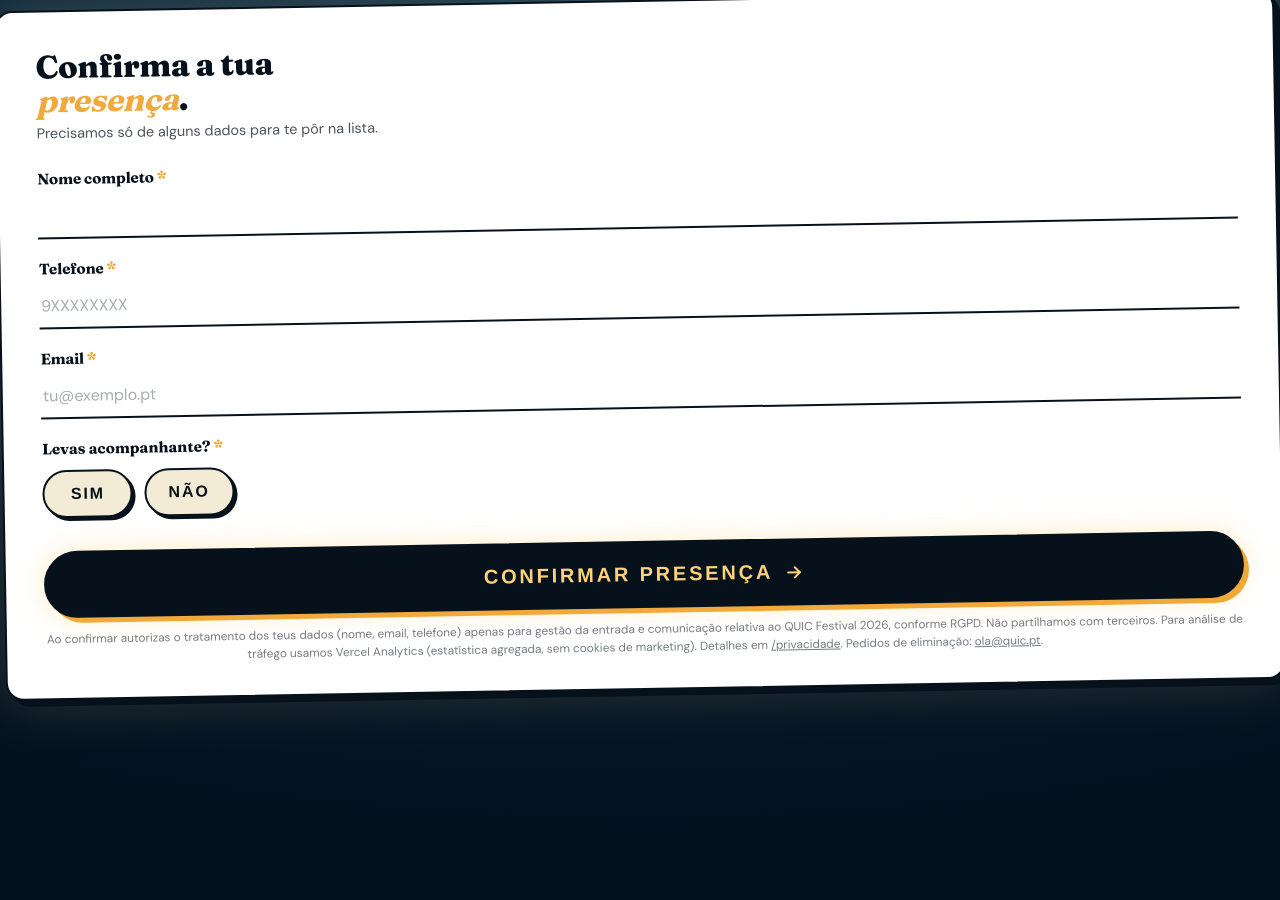
Test: RsvpForm › API error com message → banner alert
Type "Maria Silva" into the field labelled "Nome completo *" at (638, 207), box 38,174 -> 1238,239
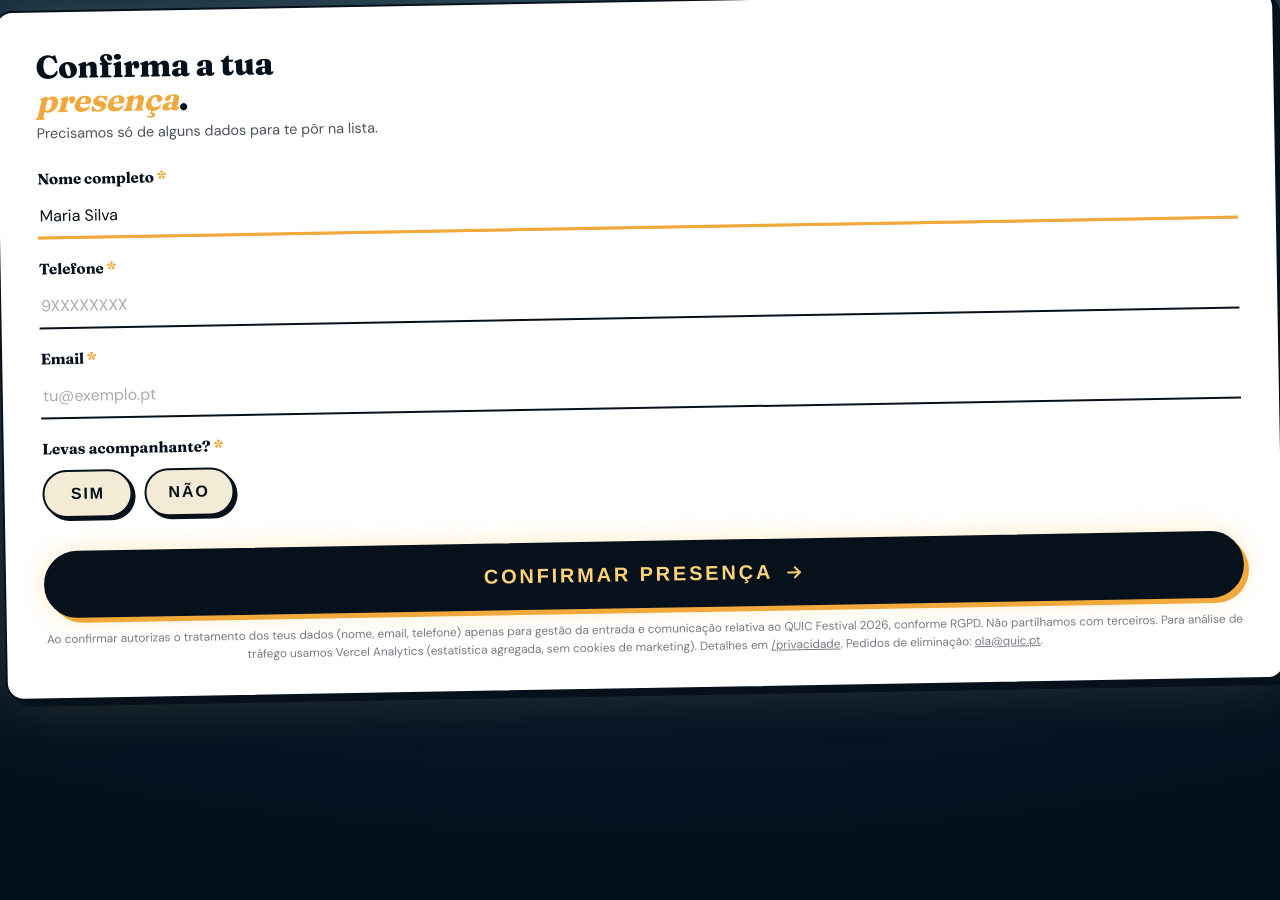
Type "912345678" into the field with id "tel" at (639, 297), box 39,264 -> 1239,329
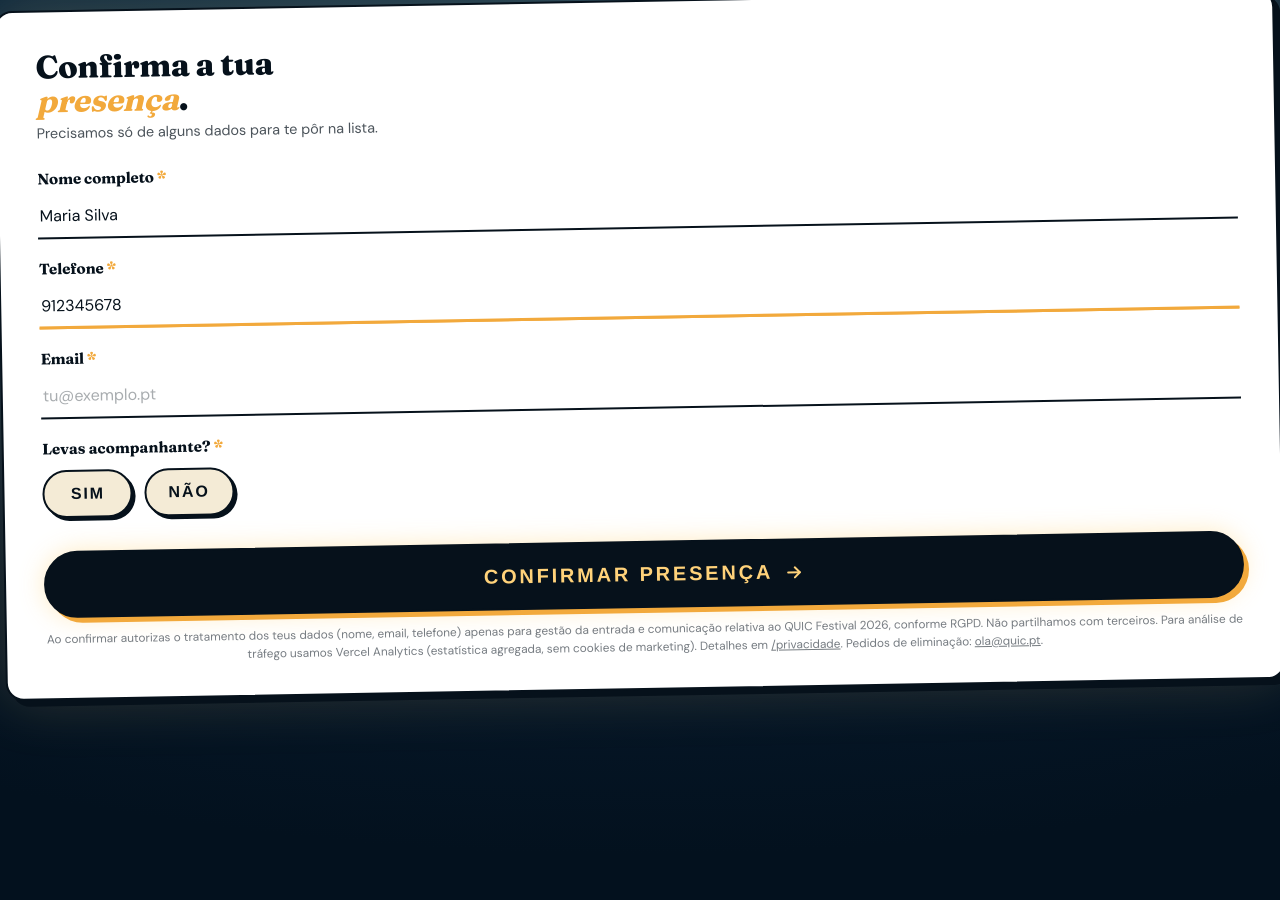
Type "maria@test.pt" into the field with id "email" at (641, 387), box 41,354 -> 1241,419
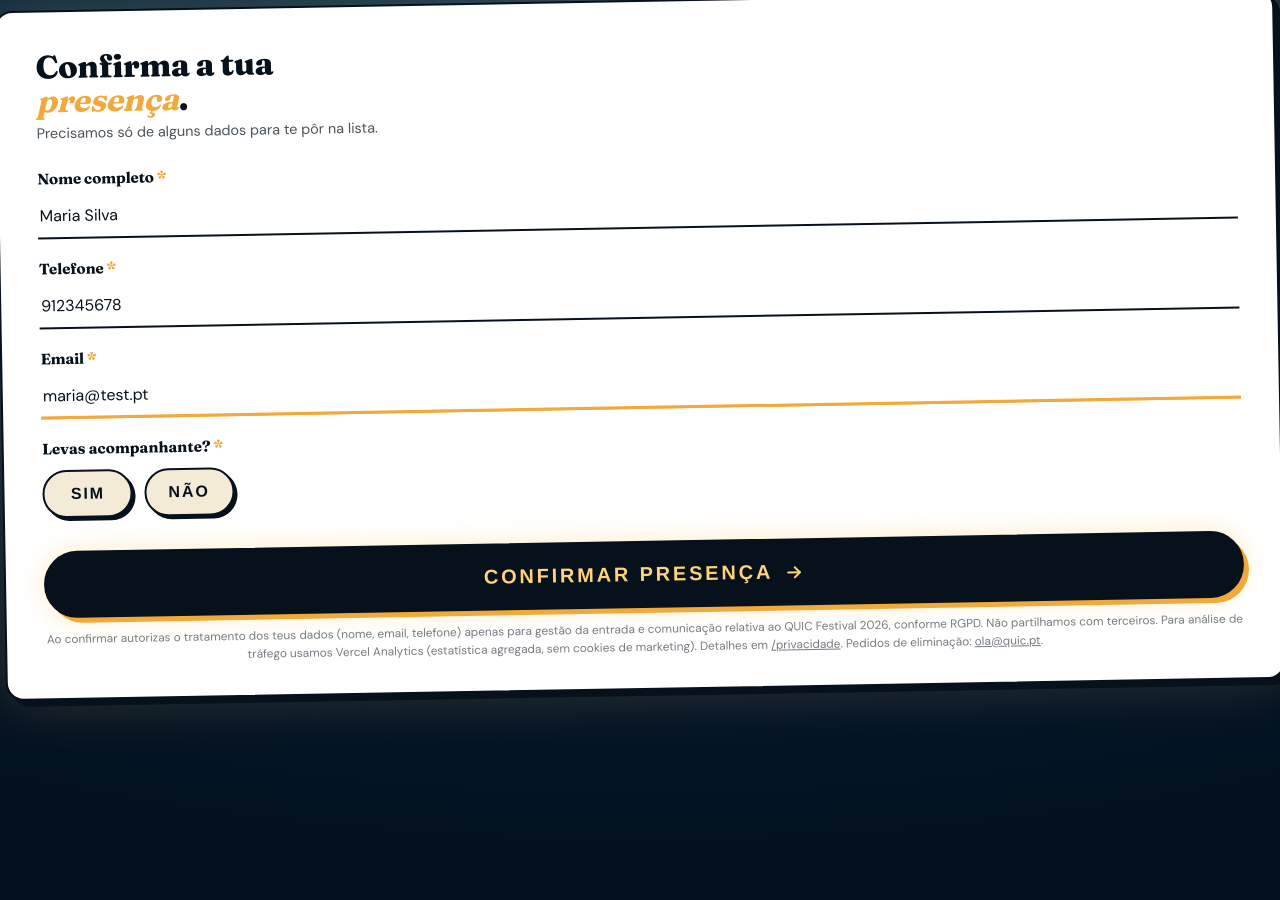
Click the radio button labelled "NÃO" at (189, 492), box 144,467 -> 234,516
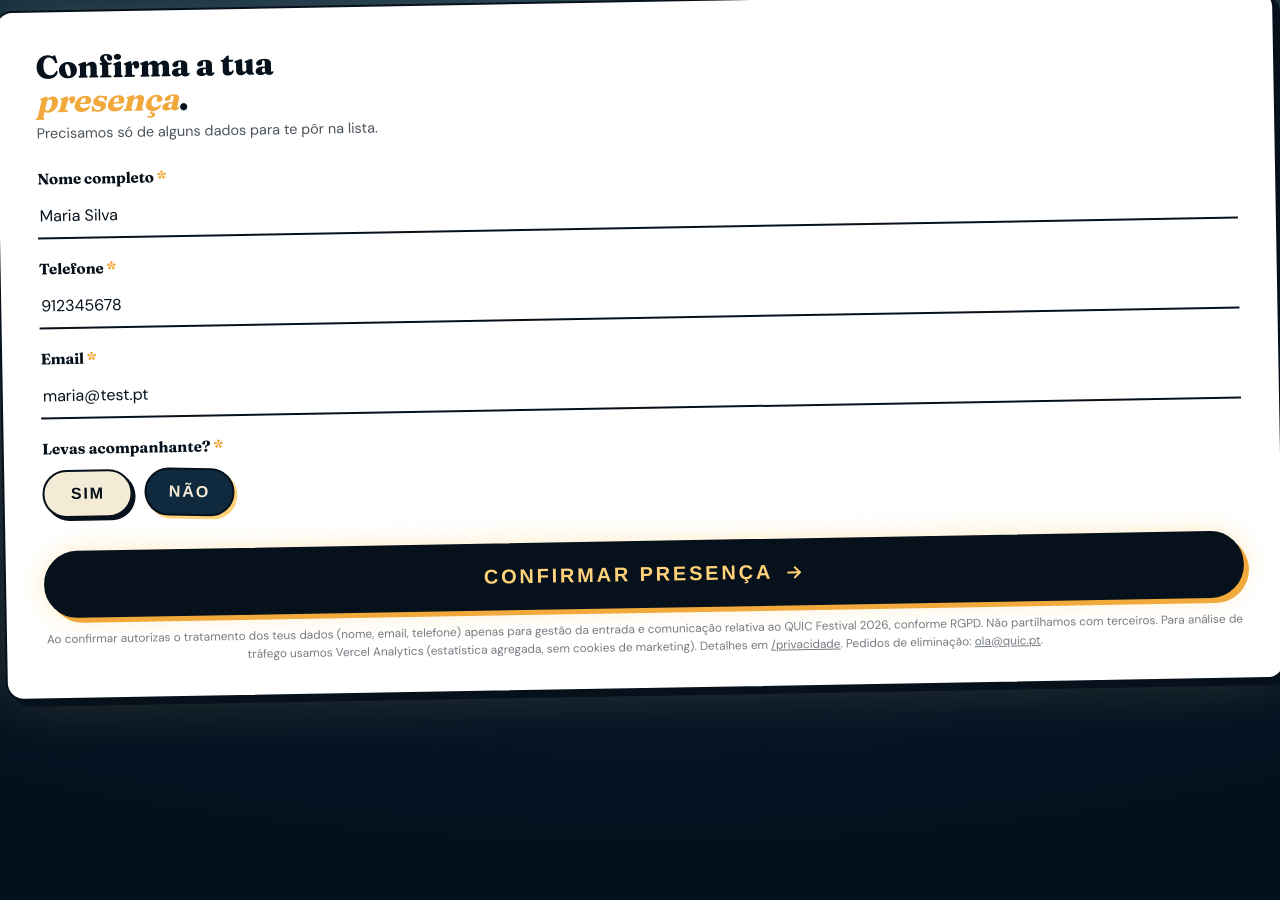
Click the button "CONFIRMAR PRESENÇA" at (644, 575), box 44,531 -> 1244,618
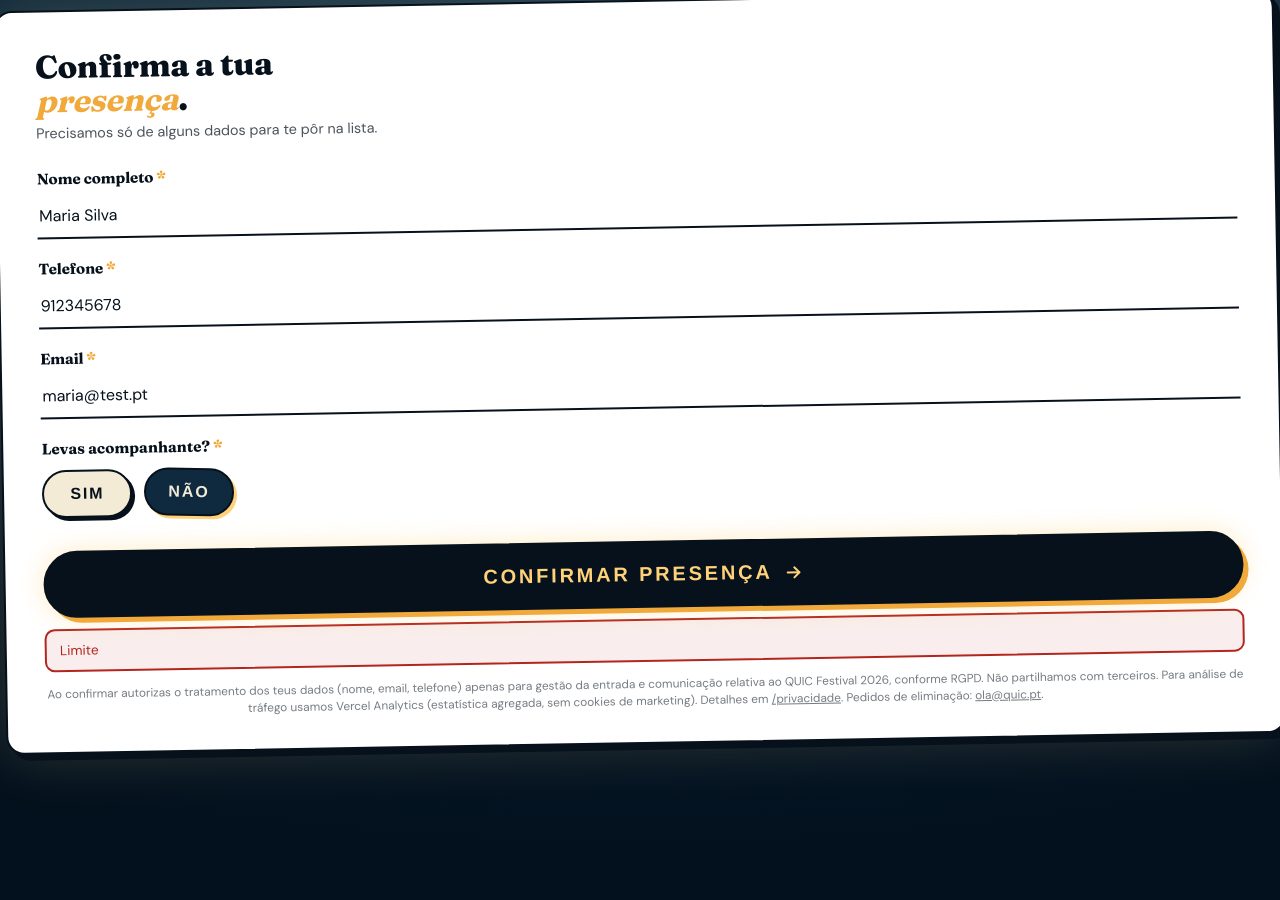
expect the message reads "Limite": met, box 60,641 -> 99,659
